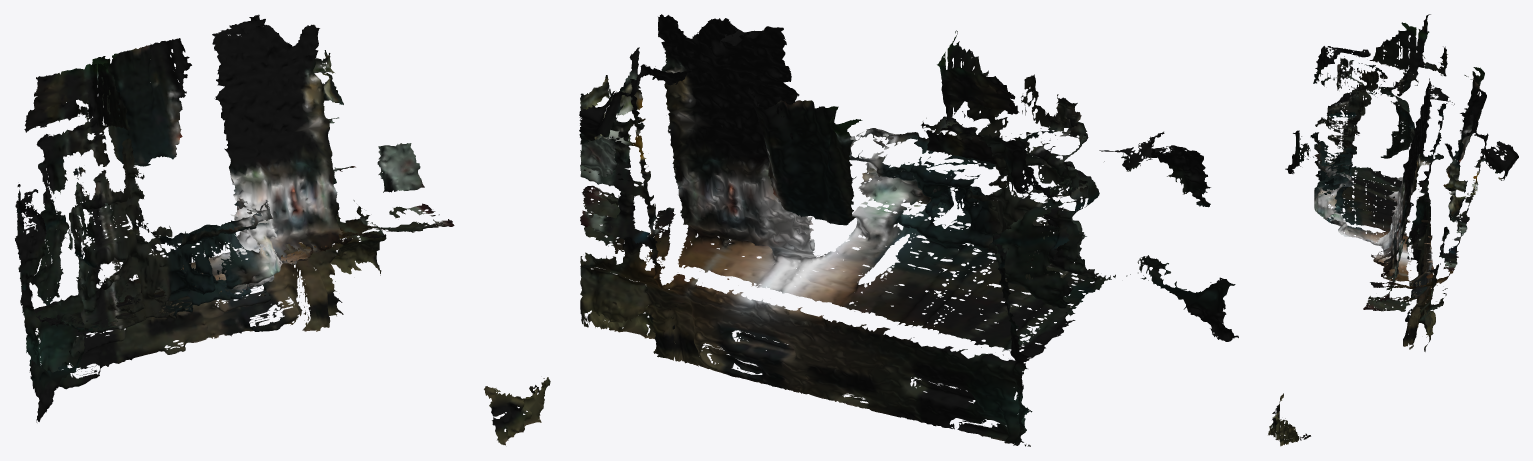
The model's file is color_model_f002_20251226_162831.obj.
The picture shows the model from 3 angles, left to right: view 1: azimuth 30°, elevation 25°; view 2: azimuth 150°, elevation 25°; view 3: azimuth 270°, elevation 25°; orthographic projection. The views are drawn at different scales.
Bounding box in the file's own units: 3.69 × 2.68 × 2.05.
